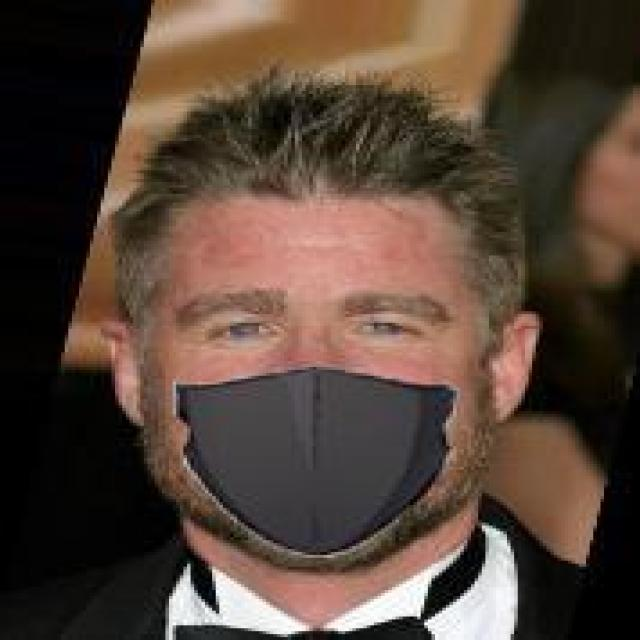mask: (94, 65, 572, 584)
